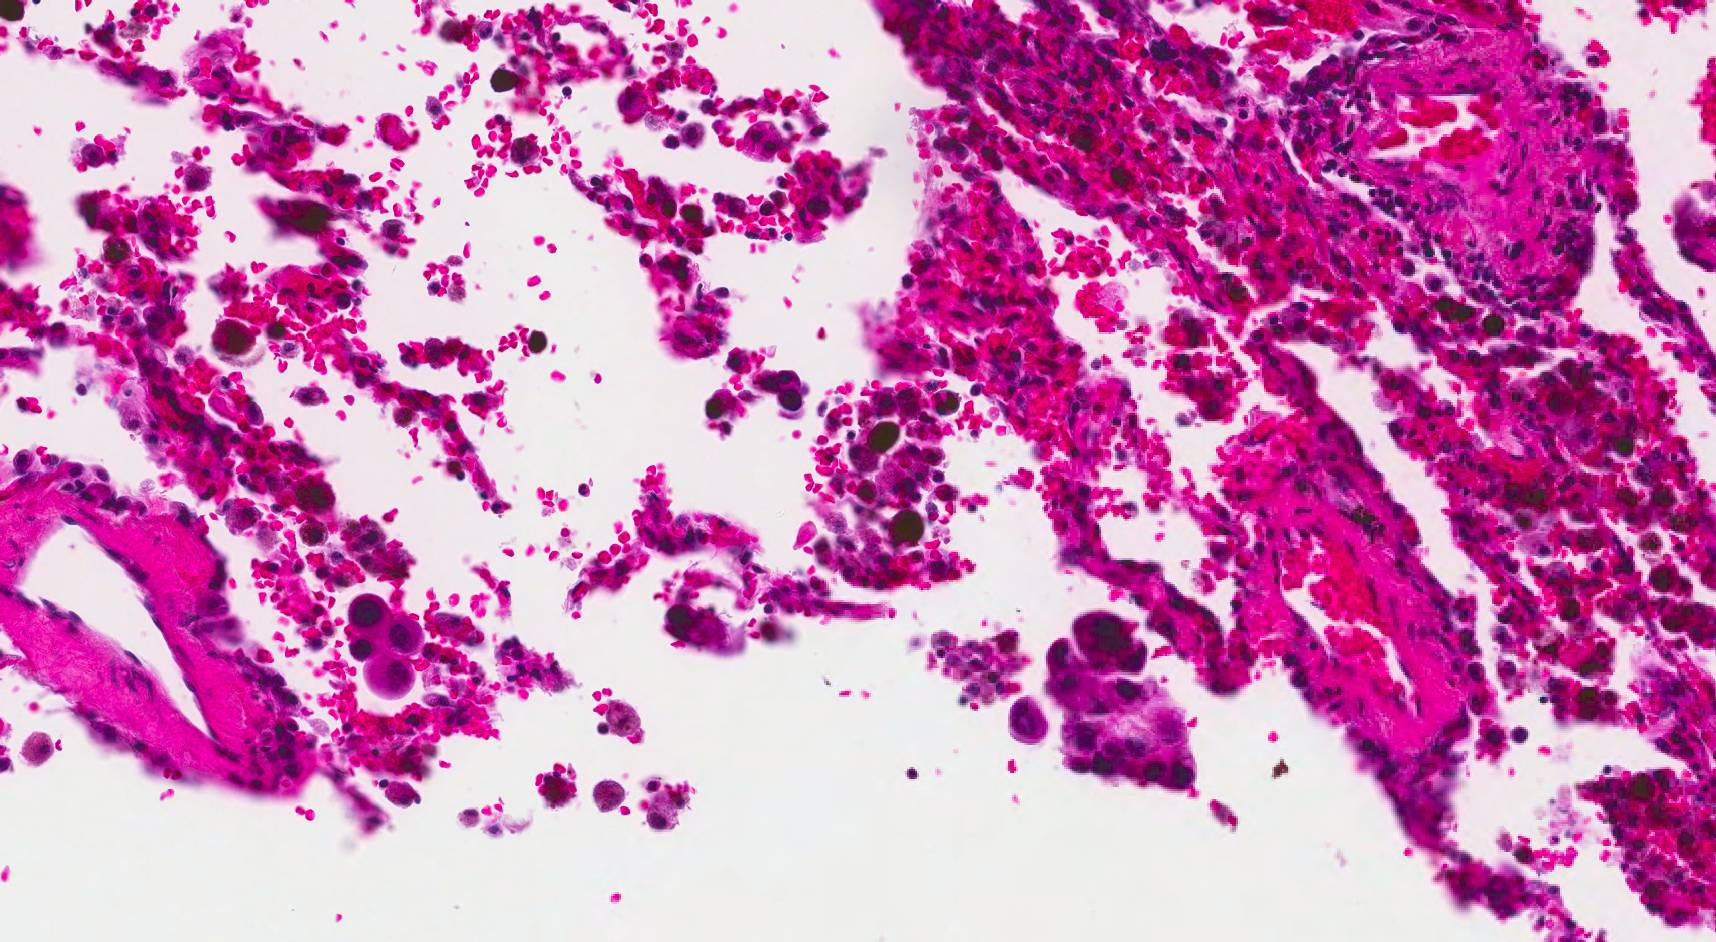stas: (1043, 617, 1198, 789), (346, 593, 422, 699), (1006, 698, 1050, 748)
